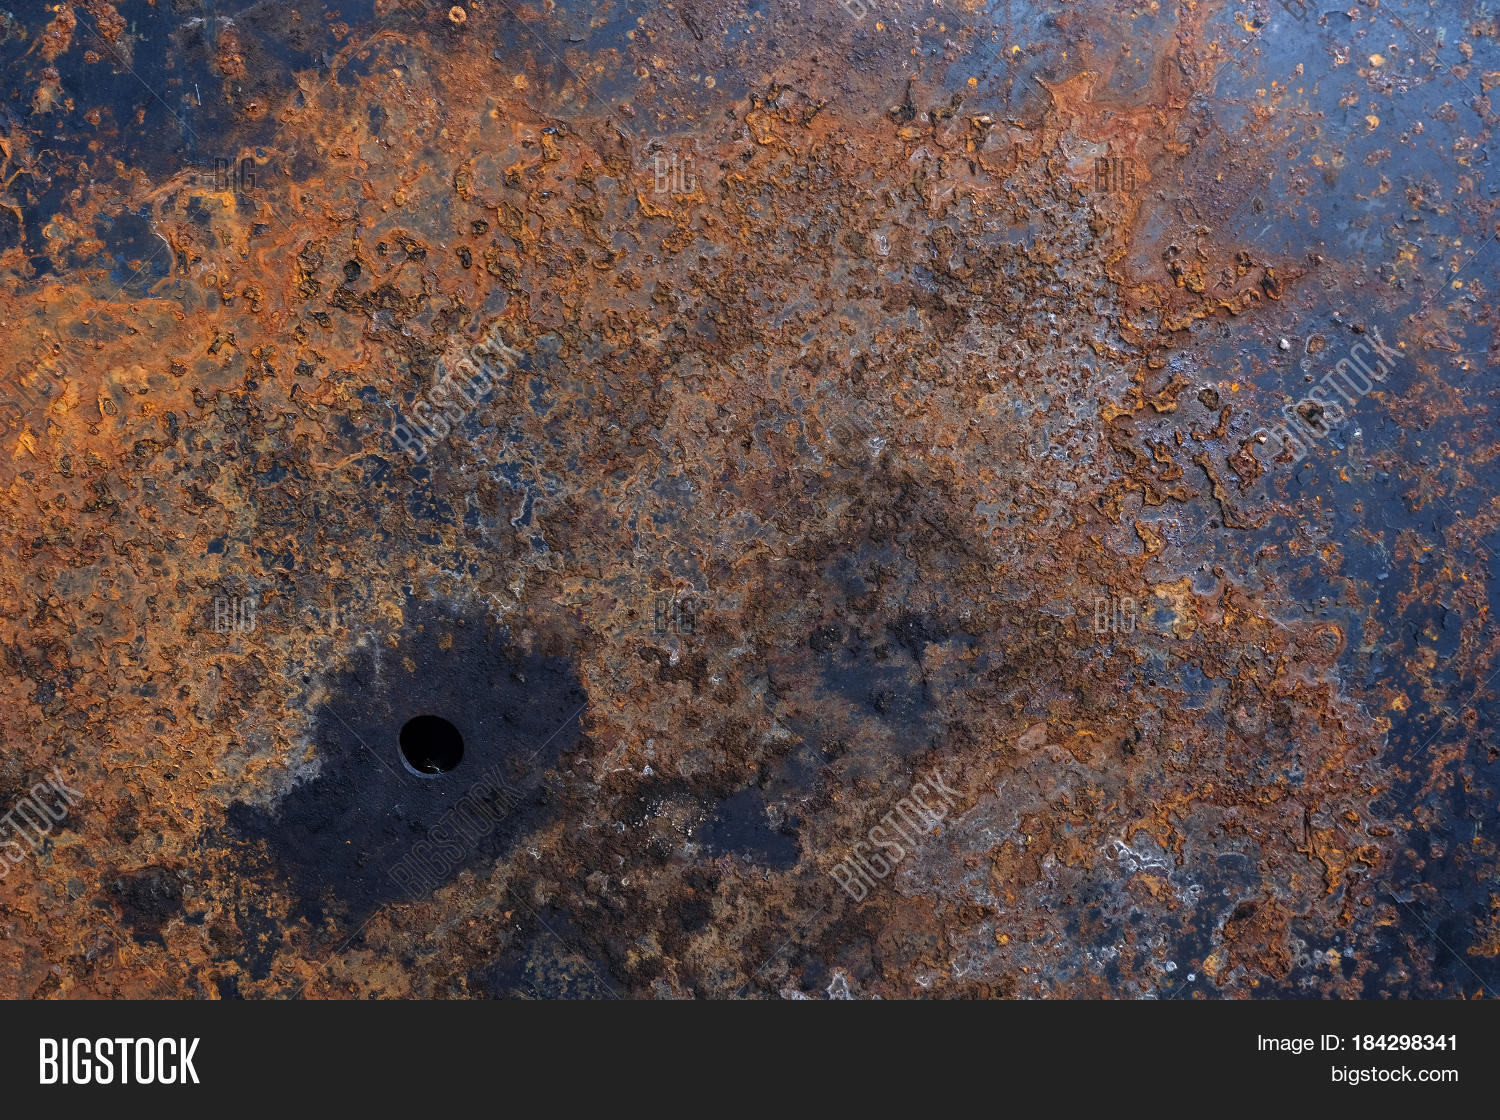rust: (44, 69, 1199, 581), (904, 653, 1400, 1005), (12, 547, 321, 996), (551, 574, 794, 1000)
